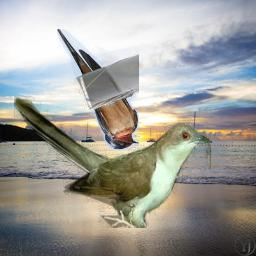Cuckoo: (14, 96, 211, 228)
Swallow: (57, 29, 139, 150)
